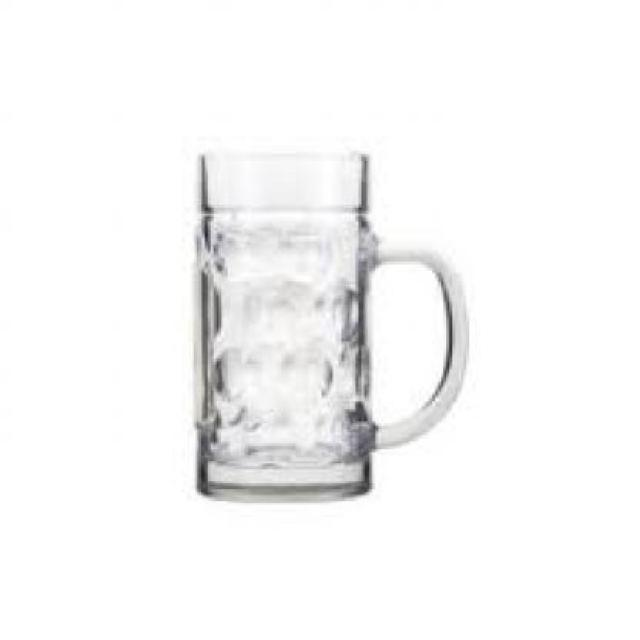kaca: (194, 147, 463, 498)
